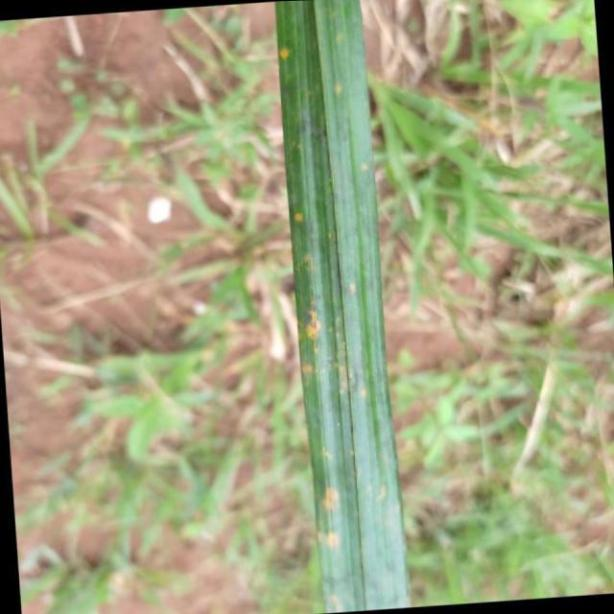Kalium: (274, 0, 412, 614)
